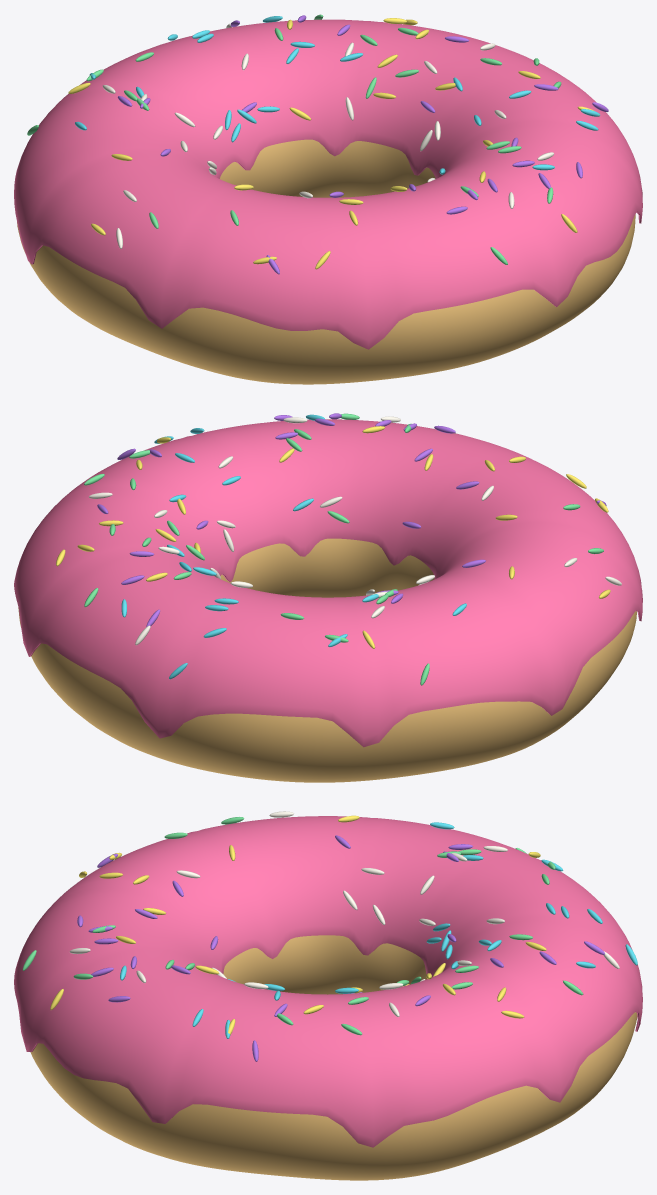
File: donut.glb
3 renders of one model, top to bottom at view 1: azimuth 30°, elevation 25°; view 2: azimuth 150°, elevation 25°; view 3: azimuth 270°, elevation 25°, orthographic.
Parts seen in each view (by area): view 1: Pink strawberry icing, Golden baked donut, Sprinkles 1, Sprinkles 2, Sprinkles 5, Sprinkles 4, Sprinkles 3; view 2: Pink strawberry icing, Golden baked donut, Sprinkles 5, Sprinkles 4, Sprinkles 1, Sprinkles 3, Sprinkles 2; view 3: Pink strawberry icing, Golden baked donut, Sprinkles 4, Sprinkles 5, Sprinkles 2, Sprinkles 3, Sprinkles 1.
Boxes of the visible parts, left/top/right/bottom form: Pink strawberry icing: left=14, top=19, right=642, bottom=349; Golden baked donut: left=17, top=139, right=635, bottom=384; Sprinkles 1: left=68, top=18, right=598, bottom=269; Sprinkles 2: left=75, top=16, right=600, bottom=174; Sprinkles 5: left=27, top=14, right=561, bottom=264; Sprinkles 4: left=117, top=15, right=608, bottom=274; Sprinkles 3: left=102, top=23, right=553, bottom=248; Pink strawberry icing: left=14, top=419, right=642, bottom=747; Golden baked donut: left=18, top=538, right=636, bottom=782; Sprinkles 5: left=84, top=413, right=603, bottom=685; Sprinkles 4: left=97, top=413, right=606, bottom=626; Sprinkles 1: left=56, top=426, right=610, bottom=648; Sprinkles 3: left=89, top=416, right=621, bottom=645; Sprinkles 2: left=121, top=414, right=466, bottom=679; Pink strawberry icing: left=14, top=816, right=642, bottom=1147; Golden baked donut: left=30, top=935, right=637, bottom=1180; Sprinkles 4: left=77, top=835, right=604, bottom=1061; Sprinkles 5: left=22, top=817, right=583, bottom=1035; Sprinkles 2: left=120, top=822, right=637, bottom=1038; Sprinkles 3: left=69, top=811, right=619, bottom=1016; Sprinkles 1: left=50, top=815, right=546, bottom=1036.
Size of the model in its own units: 0.0953 by 0.0288 by 0.0954.
